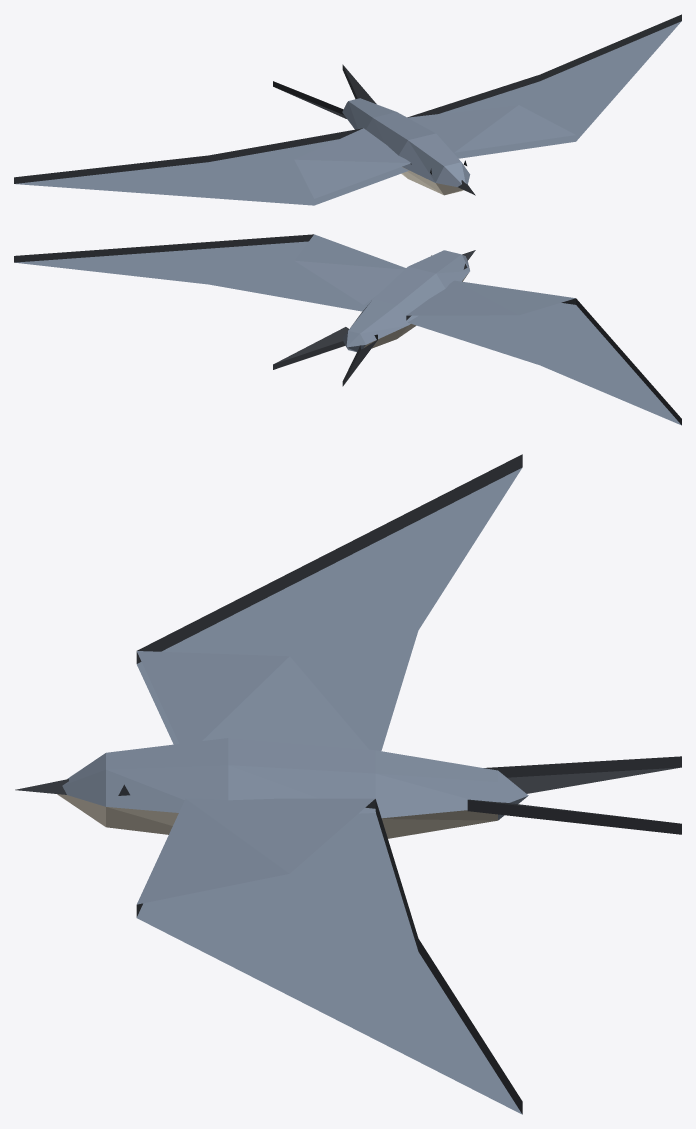
Rendered from bird.glb.
3 views of the same model, one above another, from view 1: azimuth 30°, elevation 25°; view 2: azimuth 150°, elevation 25°; view 3: azimuth 270°, elevation 25° (orthographic). The views are drawn at different scales.
Parts seen in each view (by area): view 1: bird_wing_l, bird_wing_r, bird_body; view 2: bird_wing_r, bird_wing_l, bird_body; view 3: bird_wing_r, bird_wing_l, bird_body.
Part boxes in pixels (x1,y1,x2,y2): bird_wing_l: (14, 128, 411, 205); bird_wing_r: (407, 14, 681, 158); bird_body: (273, 64, 475, 195); bird_wing_r: (14, 234, 405, 311); bird_wing_l: (406, 280, 681, 425); bird_body: (273, 250, 475, 386); bird_wing_r: (136, 798, 522, 1114); bird_wing_l: (136, 454, 522, 750); bird_body: (15, 738, 681, 838).
Size of the model in its own units: 0.0833 by 0.00466 by 0.0363.
